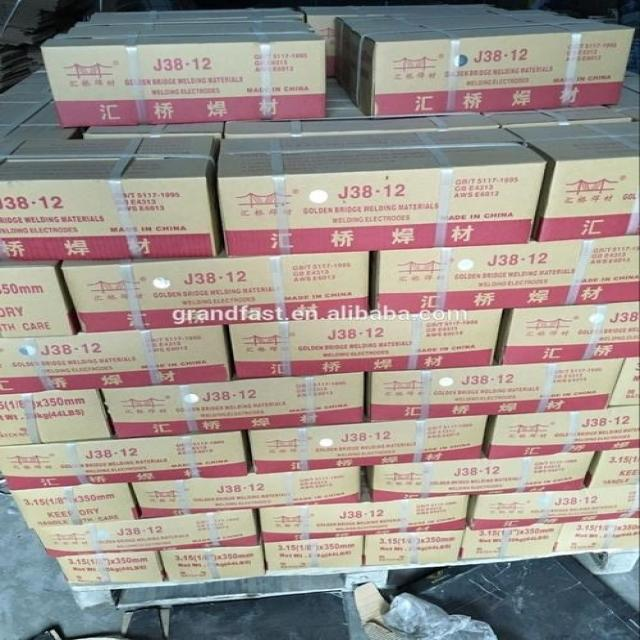box: (215, 127, 547, 256), (334, 10, 635, 118), (40, 22, 326, 128), (0, 135, 223, 261), (60, 244, 370, 332), (369, 234, 640, 316), (228, 308, 503, 379), (99, 371, 365, 438), (362, 357, 625, 421), (504, 119, 639, 242), (224, 77, 500, 137), (0, 324, 233, 393), (256, 471, 470, 543), (300, 4, 507, 78), (0, 430, 251, 490), (247, 414, 489, 473), (131, 464, 361, 519), (361, 450, 595, 500), (33, 509, 261, 557), (494, 301, 639, 364), (465, 482, 640, 529), (483, 406, 639, 458), (0, 388, 115, 446), (1, 64, 90, 138), (0, 259, 81, 338), (8, 483, 140, 529), (157, 535, 266, 581), (74, 8, 305, 26), (458, 523, 562, 560), (365, 529, 465, 565), (56, 551, 166, 583), (262, 535, 365, 569), (484, 105, 635, 128), (554, 517, 640, 553), (81, 121, 224, 139), (584, 447, 639, 488), (605, 71, 640, 119), (609, 357, 640, 406)
